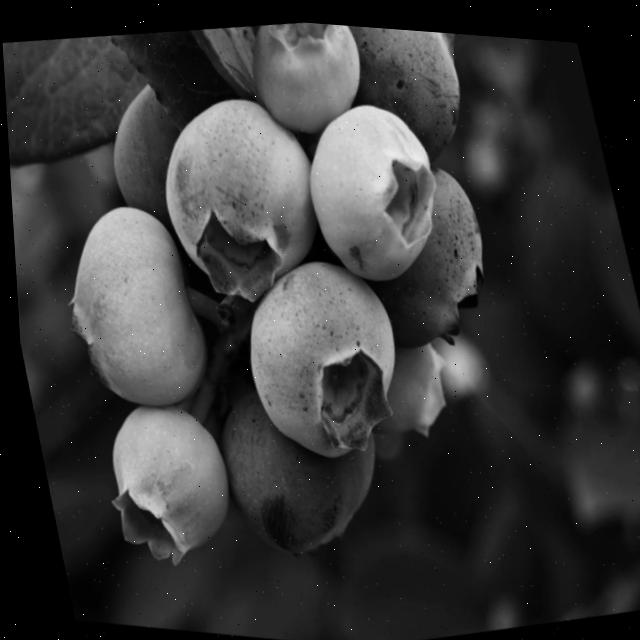RipeBlueBerry: (182, 367, 411, 600), (340, 143, 528, 382), (315, 18, 498, 182)
UnripeBlueBerry: (119, 57, 359, 335), (202, 219, 442, 497), (21, 168, 248, 442), (268, 67, 481, 317), (69, 376, 256, 596), (234, 14, 393, 156)
